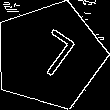L_SW: (21, 26, 78, 85)
